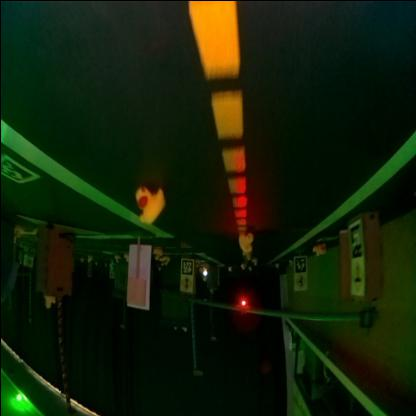Duckie: (135, 186, 163, 222), (238, 233, 250, 251), (43, 294, 54, 309), (152, 248, 160, 260), (311, 248, 318, 256), (318, 245, 324, 252), (15, 229, 20, 237), (162, 258, 168, 262)
Intersection sign: (349, 260, 363, 293), (293, 273, 305, 289)
QR code: (1, 152, 37, 184), (348, 224, 360, 260), (180, 261, 192, 275), (293, 258, 304, 272)
Signal sign: (179, 279, 191, 291)
Traffic light: (237, 300, 245, 314)
